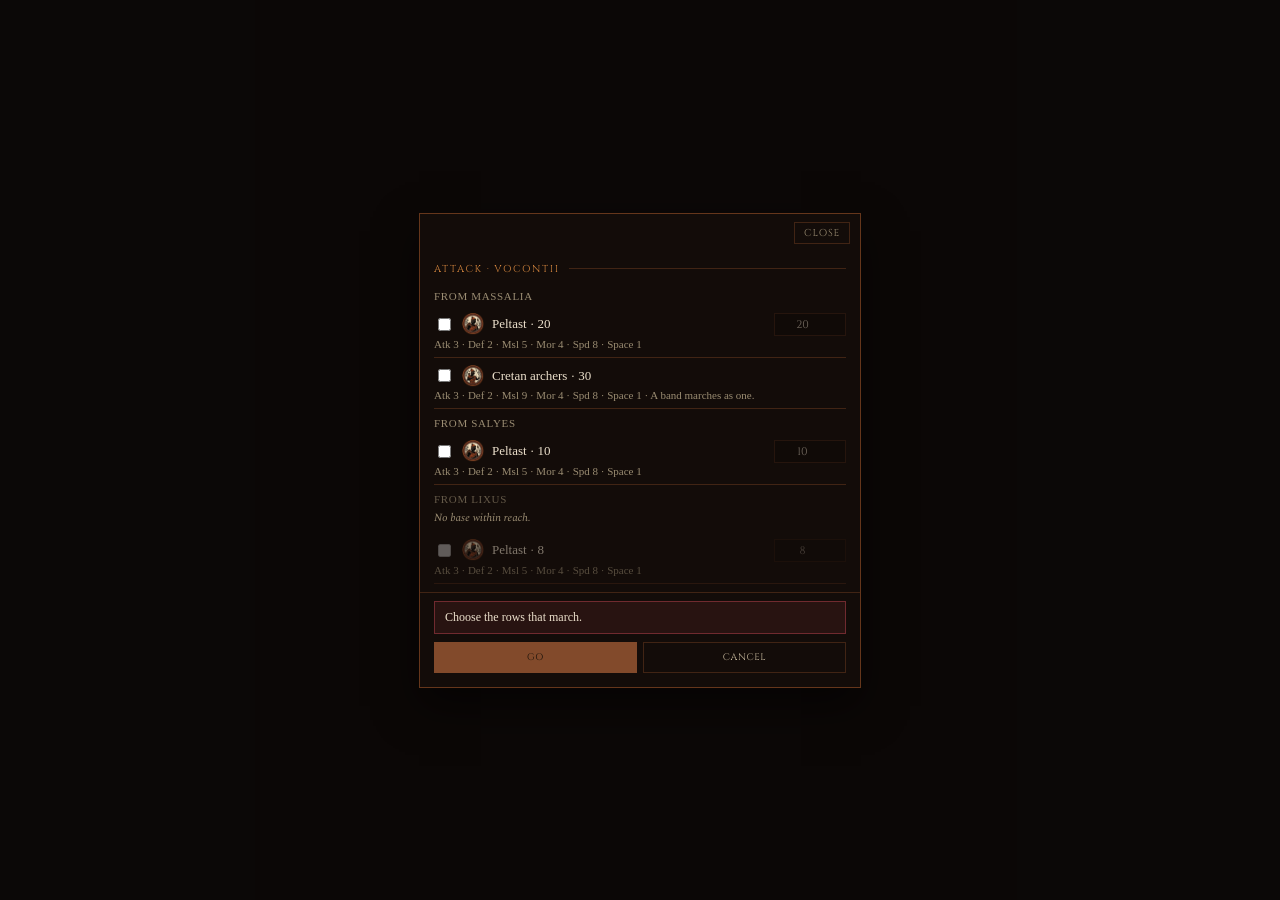
Test: ForcePicker › groups rows by base, greys a base that cannot reach the target with the reason, and keeps the selection within one base
The width and height of the screenshot is (1280, 900).
Expected: the text with class "w2map-pick-why" reads "No base within reach.", x1=434 y1=508 x2=531 y2=526
Expected: the number of list items with class "dim" is 1, x1=434 y1=532 x2=846 y2=584
// Tick Massalia's row: the other reachable base dims, the verdict reads the base's own steps.
Click the checkbox named "Peltast, 20": (444, 324) x1=438 y1=318 x2=451 y2=330
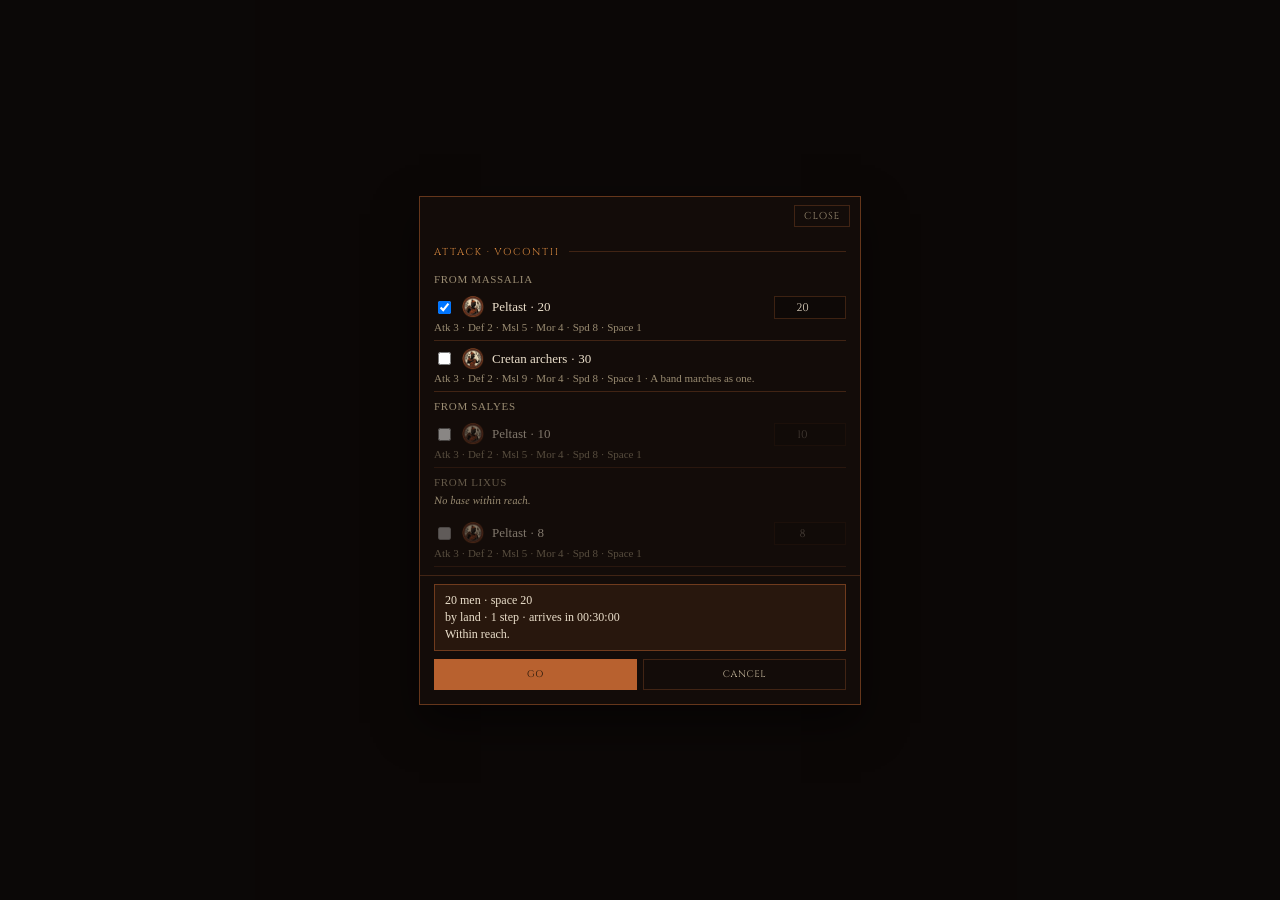
Expected: the text "A force marches from one base." is not shown
Expected: the checkbox named "Peltast, 20" is checked, x1=438 y1=300 x2=451 y2=314
Expected: the element with class "w2map-verdict" shows "Within reach.", x1=445 y1=626 x2=510 y2=640
// Tick Salyes' row: Massalia's tick clears and the one-line note appears.
Click the checkbox named "Peltast, 10": (444, 434) x1=438 y1=428 x2=451 y2=440
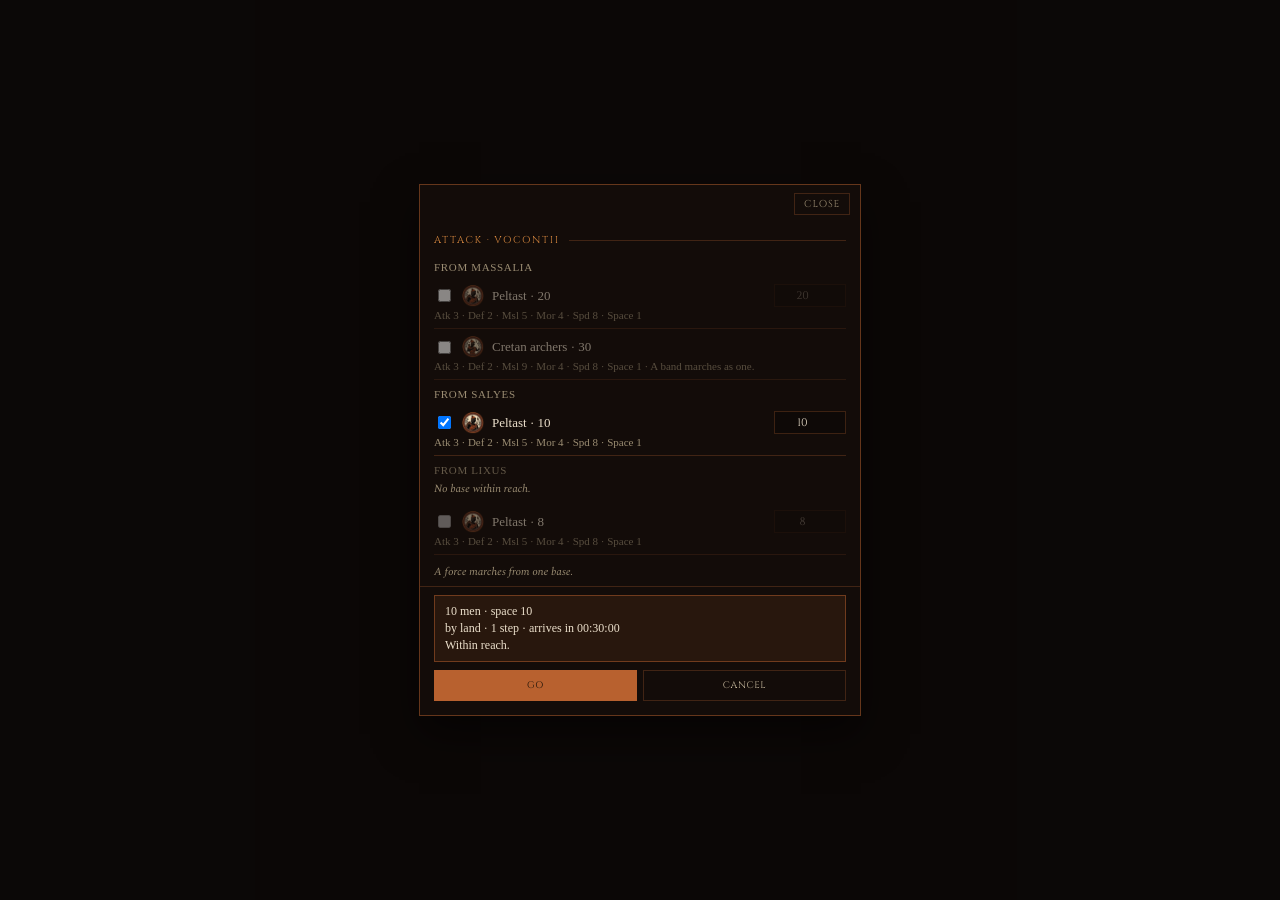
Expected: the checkbox named "Peltast, 10" is checked, x1=438 y1=416 x2=451 y2=429
Expected: the checkbox named "Peltast, 20" is not checked, x1=438 y1=289 x2=451 y2=302
Expected: the element with class "w2map-pick-scroll" shows "A force marches from one base.", x1=434 y1=563 x2=573 y2=580
